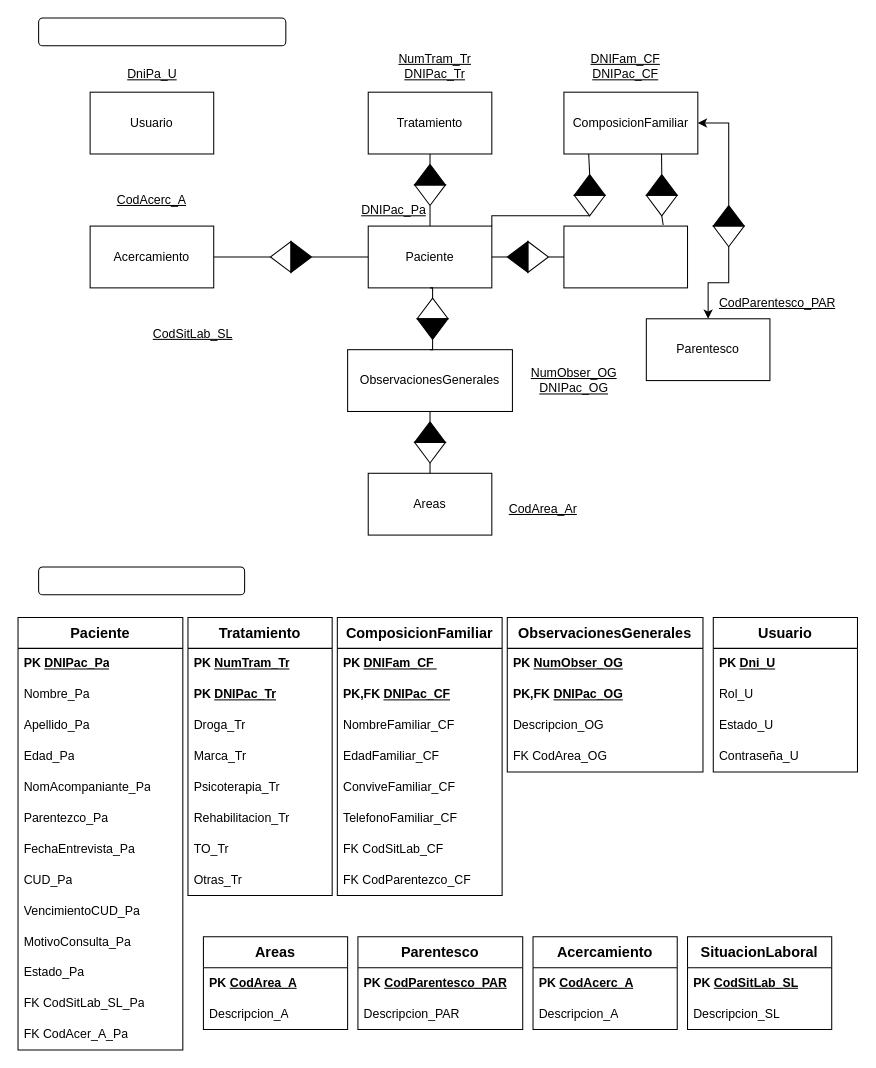
This 876x1068 diagram has some shape labels left out. The shapes that lost their labels are listed below. From the top down, each one's centre as x and y in pixels, then its label:
At (x=162, y=31): "D.E.R - DIAGRAMA ENTIDAD RELACIÓN".
At (x=625, y=256): "SistuacionLaboral".
At (x=141, y=580): "D.D - DICCIONARIO DE DATOS".
